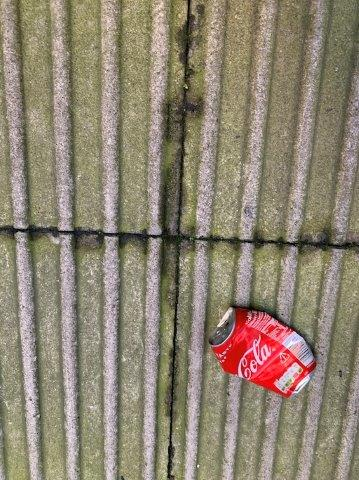kaleng: (211, 308, 315, 397)
